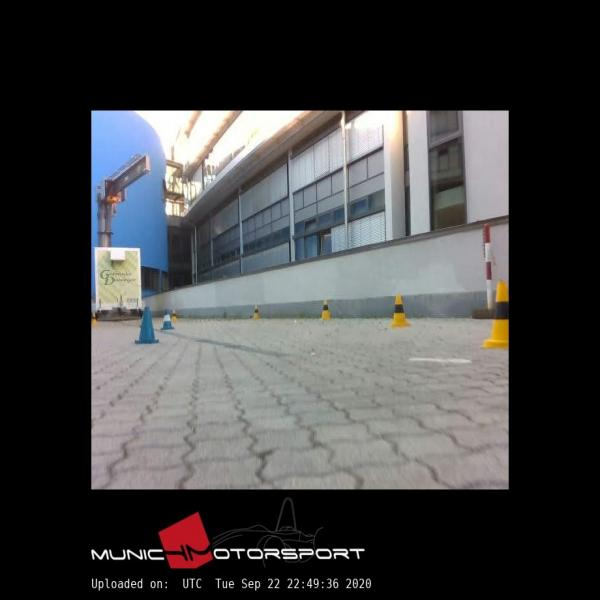blue_cone: (134, 307, 159, 344), (161, 310, 174, 329)
yellow_cone: (483, 282, 508, 347), (390, 295, 410, 326), (321, 300, 331, 320), (254, 306, 260, 319), (92, 313, 98, 325), (172, 310, 178, 322)
